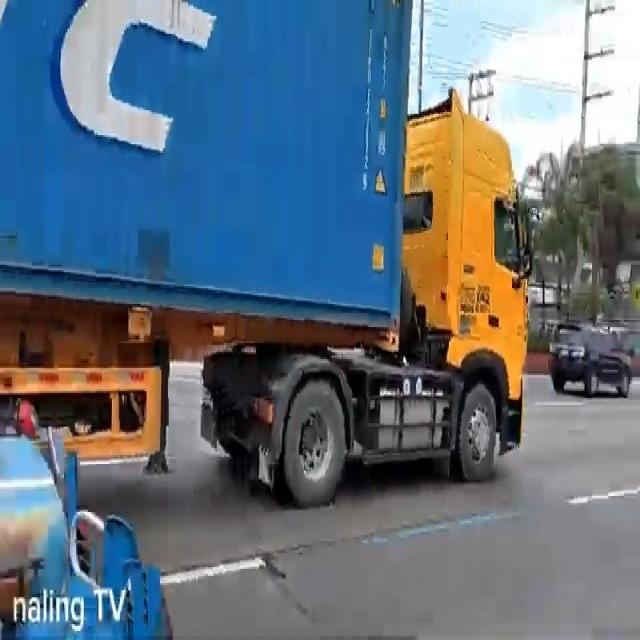car: (548, 320, 632, 403)
jeepney: (0, 425, 177, 640)
truck: (0, 0, 532, 505)
